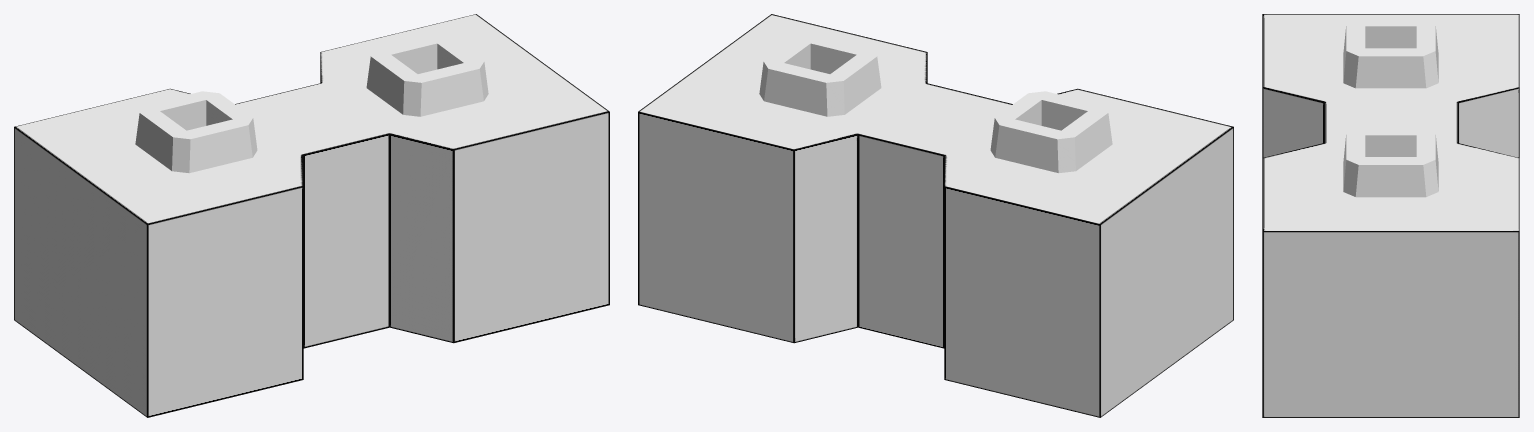
The model's file is robotic_lvl2.fbx.
3 views of the same model, side by side, from view 1: azimuth 30°, elevation 25°; view 2: azimuth 150°, elevation 25°; view 3: azimuth 270°, elevation 25° (orthographic). The views are drawn at different scales.
Visible parts, largest first — view 1: lvl02; view 2: lvl02; view 3: lvl02.
Part boxes in pixels (box(x1,y1,x2,y2)): lvl02: box(14, 14, 609, 417); lvl02: box(638, 14, 1233, 417); lvl02: box(1262, 14, 1519, 417).
Bounding box in the file's own units: 0.15 × 0.07 × 0.075.
1 material, 1 textured.
